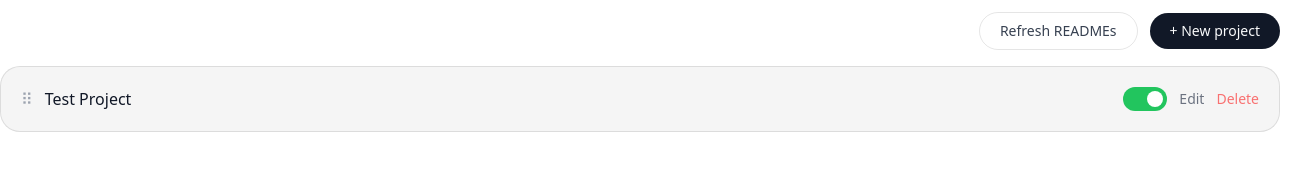
Scenario: ProjectsManagerClient - visibility toggle › reverts the toggle and shows an inline error when the update fails
Click the button named "toggle visibility": (1145, 99) [1123, 87, 1167, 111]
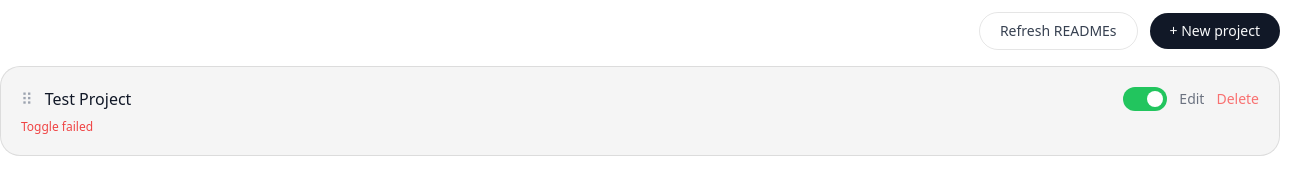
expect the text "Toggle failed" is shown: met, box [21, 118, 93, 135]
